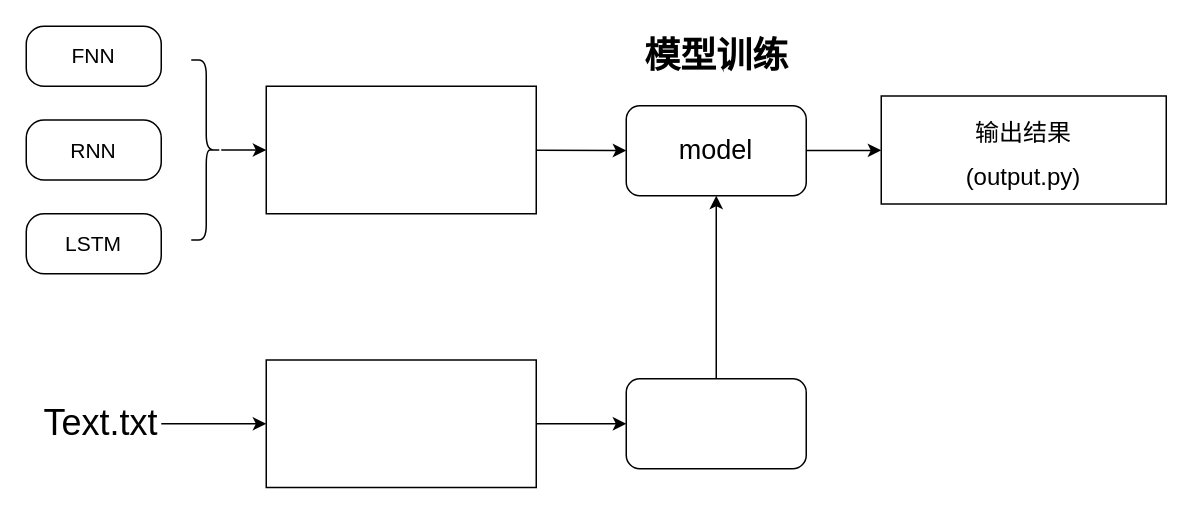
Some shapes in this 1193 by 515 pixel diagram are drawn without their labels. Each missing label, with the centre of its shape:
"dataset" belongs at (715,423).
"数据处理 (data_processing.py)" belongs at (400,423).
"模型搭建 (model.py)" belongs at (400,149).
